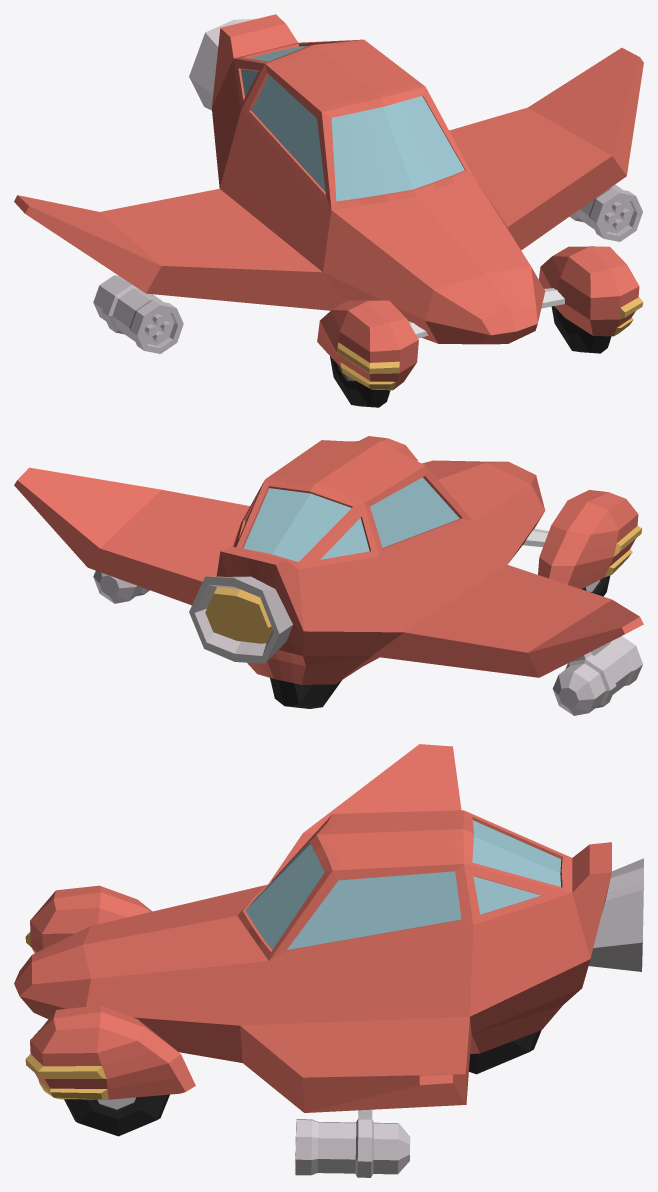
Rendered from cars.fbx.
3 views of the same model, one above another, from view 1: azimuth 30°, elevation 25°; view 2: azimuth 150°, elevation 25°; view 3: azimuth 270°, elevation 25° (orthographic). The views are drawn at different scales.
Parts seen in each view (by area): view 1: Cube, Cube.004, Cylinder, Cube.005; view 2: Cube, Cube.004, Cylinder, Cube.005, Cylinder.001; view 3: Cube, Cube.004, Cylinder, Cube.005, Cylinder.001.
Part boxes in pixels (left/top/right/bottom): Cube: left=189, top=14, right=545, bottom=344; Cube.004: left=14, top=47, right=643, bottom=310; Cylinder: left=317, top=246, right=643, bottom=407; Cube.005: left=93, top=184, right=642, bottom=353; Cube: left=189, top=440, right=545, bottom=684; Cube.004: left=14, top=467, right=643, bottom=677; Cylinder: left=359, top=436, right=642, bottom=596; Cube.005: left=93, top=571, right=642, bottom=715; Cylinder.001: left=270, top=678, right=341, bottom=708; Cube: left=14, top=810, right=643, bottom=1062; Cube.004: left=240, top=744, right=471, bottom=1112; Cylinder: left=25, top=885, right=195, bottom=1136; Cube.005: left=295, top=1109, right=410, bottom=1177; Cylinder.001: left=469, top=1030, right=541, bottom=1074.
Size of the model in its own units: 124 by 42.41 by 98.33.
